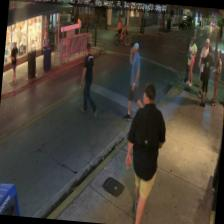person: (119, 82, 170, 224), (78, 42, 103, 117), (198, 45, 216, 106)
